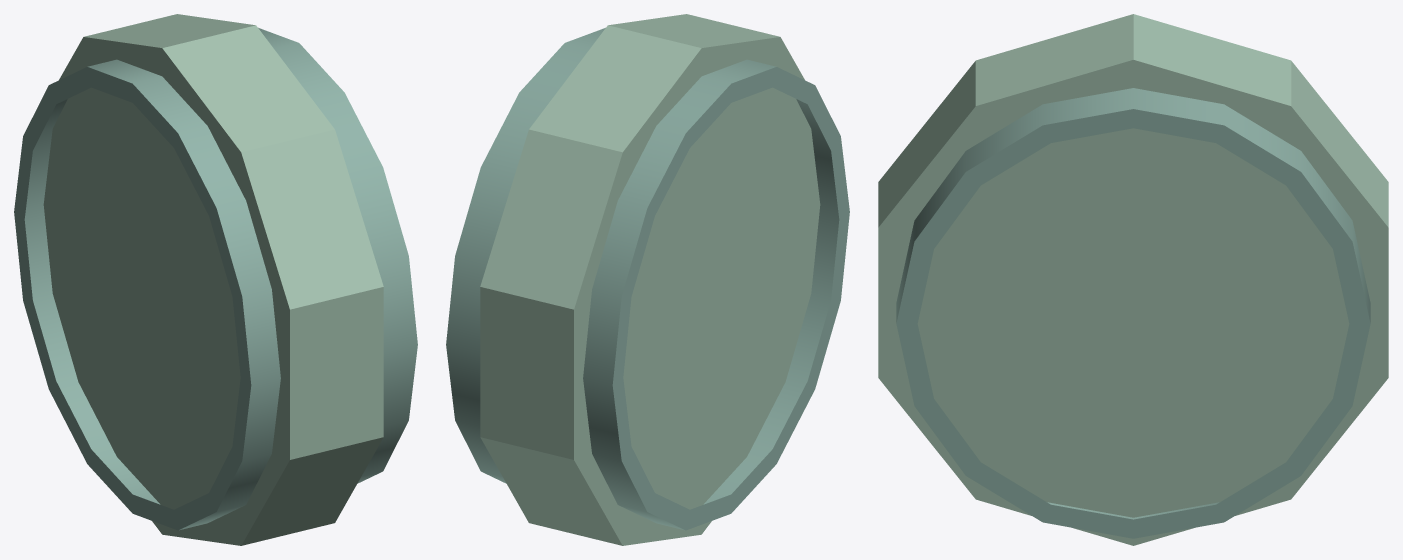
The model's file is PipeLarge_Connector_05.fbx.
3 renders of one model, left to right at view 1: azimuth 30°, elevation 25°; view 2: azimuth 150°, elevation 25°; view 3: azimuth 270°, elevation 25°, orthographic.
Parts seen in each view (by area): view 1: PipeLarge_Connector_05.001; view 2: PipeLarge_Connector_05.001; view 3: PipeLarge_Connector_05.001.
Boxes of the visible parts, left/top/right/bottom form: PipeLarge_Connector_05.001: left=14, top=14, right=417, bottom=545; PipeLarge_Connector_05.001: left=446, top=14, right=849, bottom=545; PipeLarge_Connector_05.001: left=878, top=14, right=1388, bottom=545.
Size of the model in its own units: 0.0864 by 0.2411 by 0.2293.
